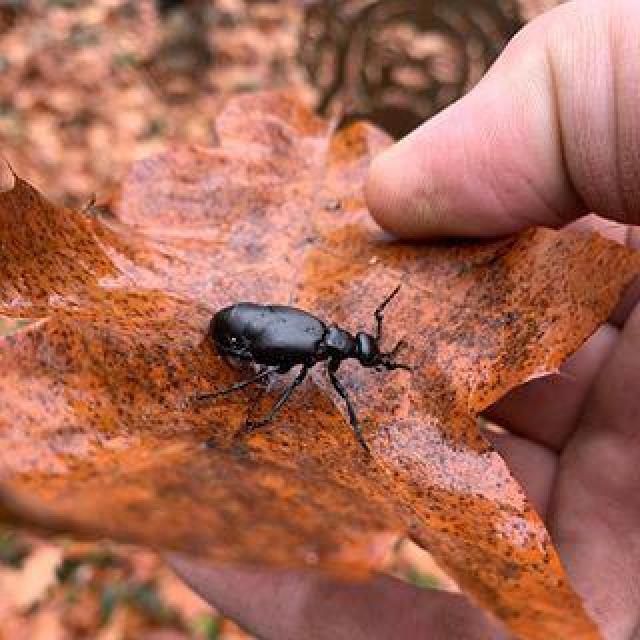BlisterBeetle-Adult-: (178, 283, 416, 452)
